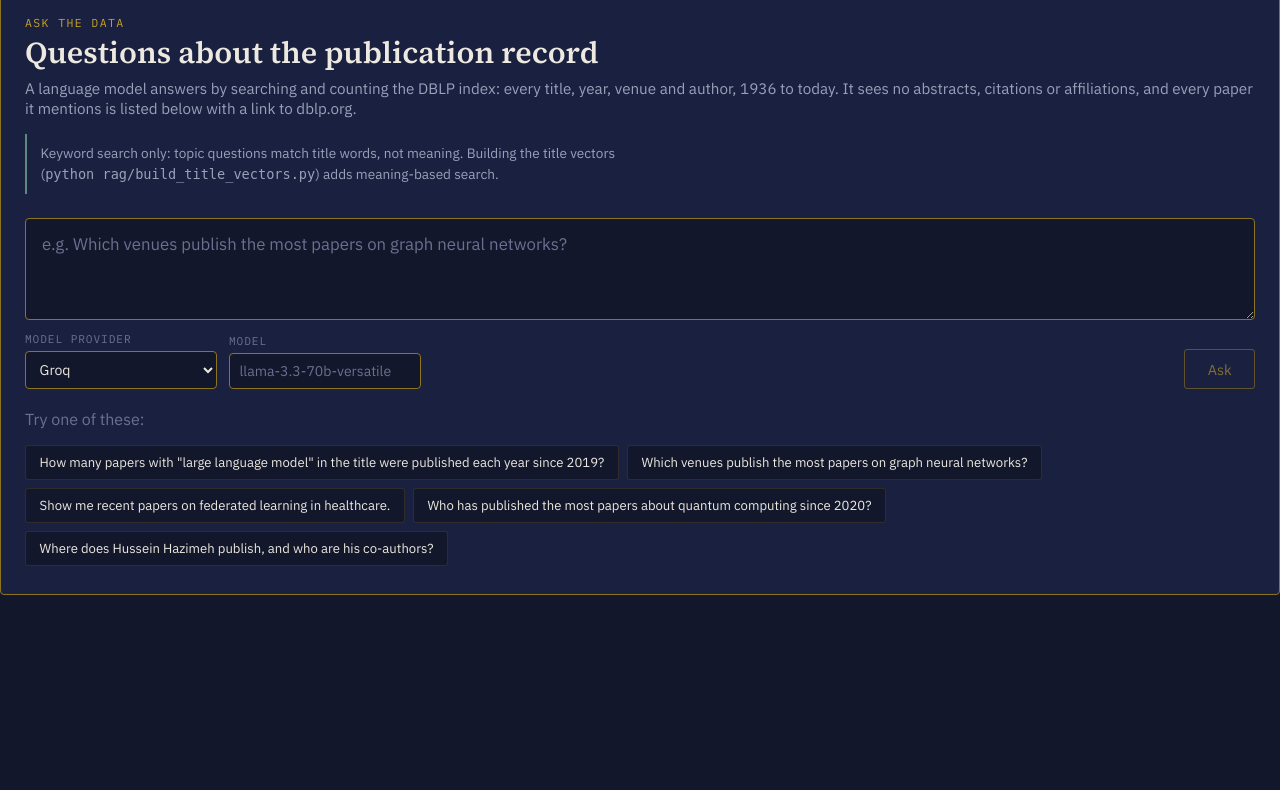
AskPage › shows how the answer was produced, details closed until asked for
Type "federated learning in healthcare?" into the text box named "Your question". click: (640, 269)
box: [25, 218, 1255, 320]
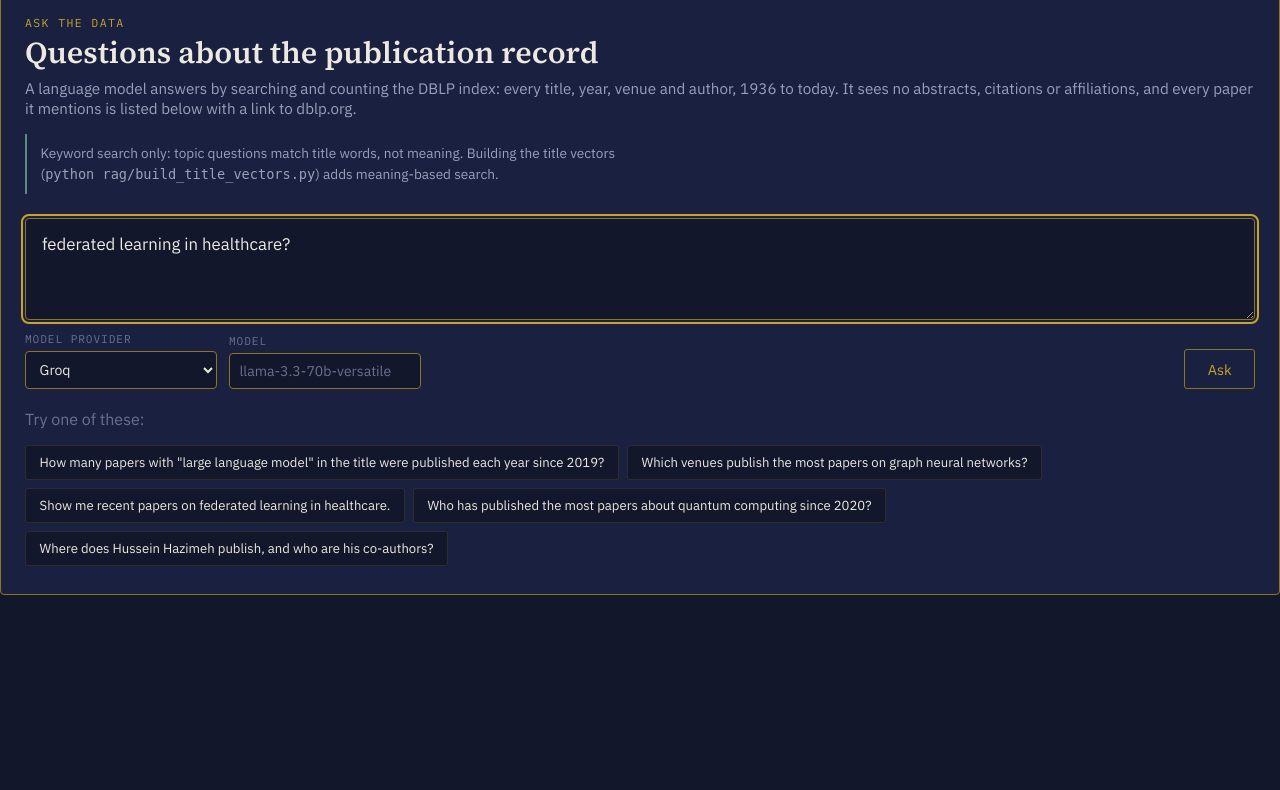
Click the button "Ask". click: (1220, 369)
box: [1184, 349, 1255, 390]
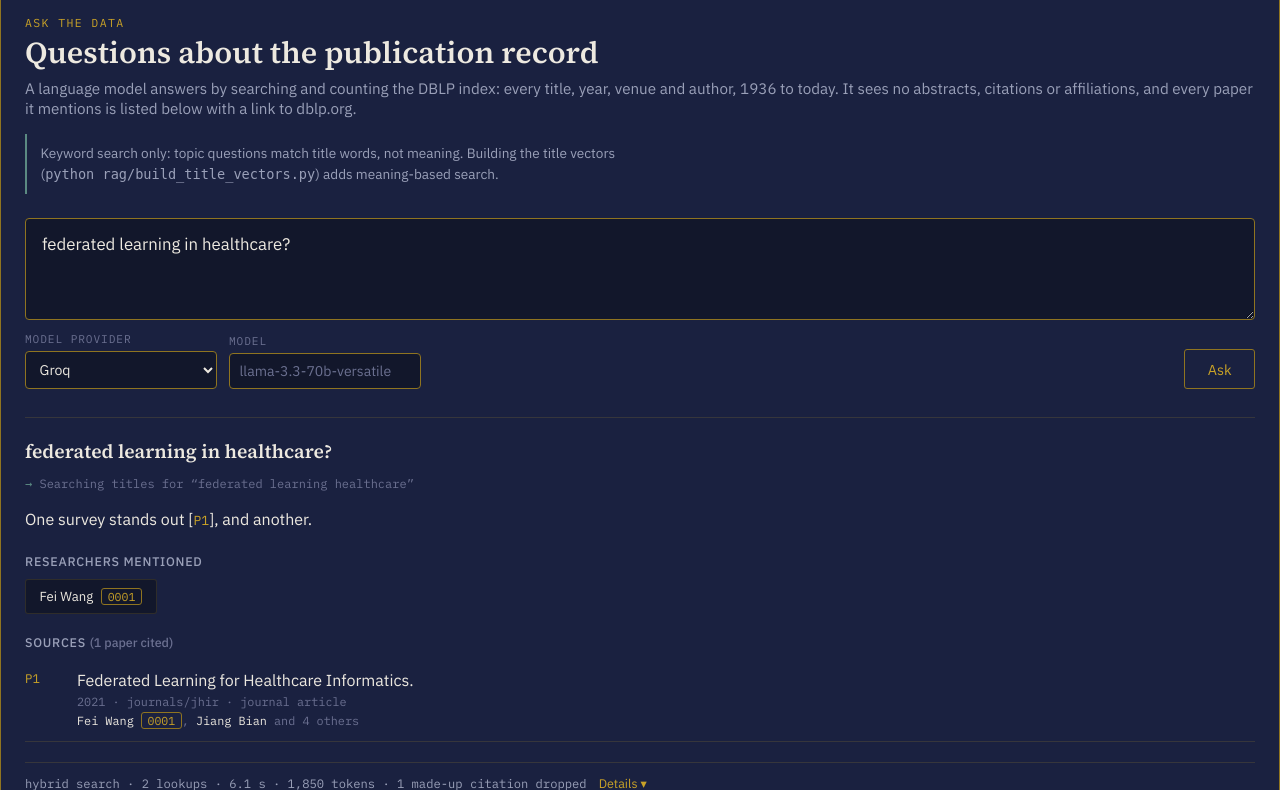
Click the text "Details". click: (623, 783)
box: [599, 775, 647, 789]
(page scrolled)
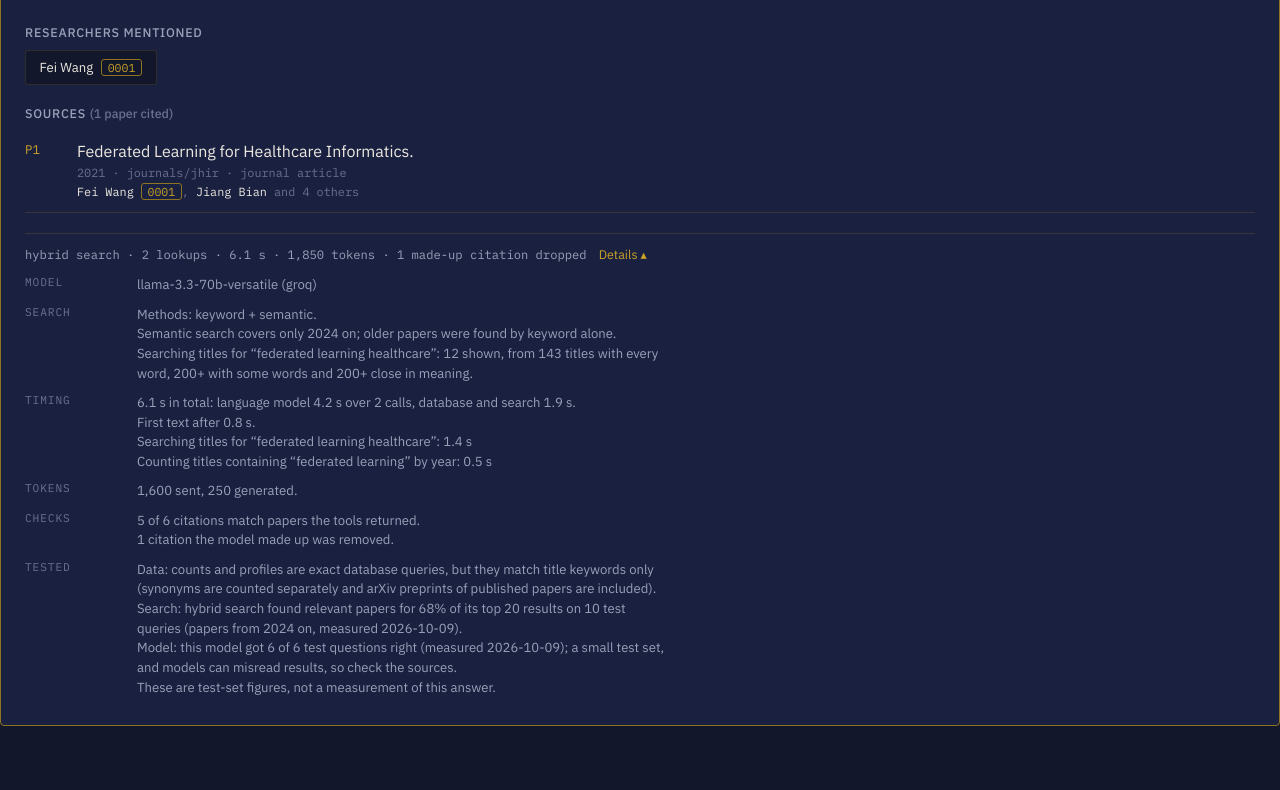
Result: the text "hybrid search · 2 lookups · 6.1 s · 1,850 tokens · 1 made-up citation dropped" shows "llama-3.3-70b-versatile (groq)" at [137, 276, 317, 293]
Result: the text "hybrid search · 2 lookups · 6.1 s · 1,850 tokens · 1 made-up citation dropped" shows "Semantic search covers only 2024 on; older papers were found by keyword alone." at [137, 325, 616, 342]
